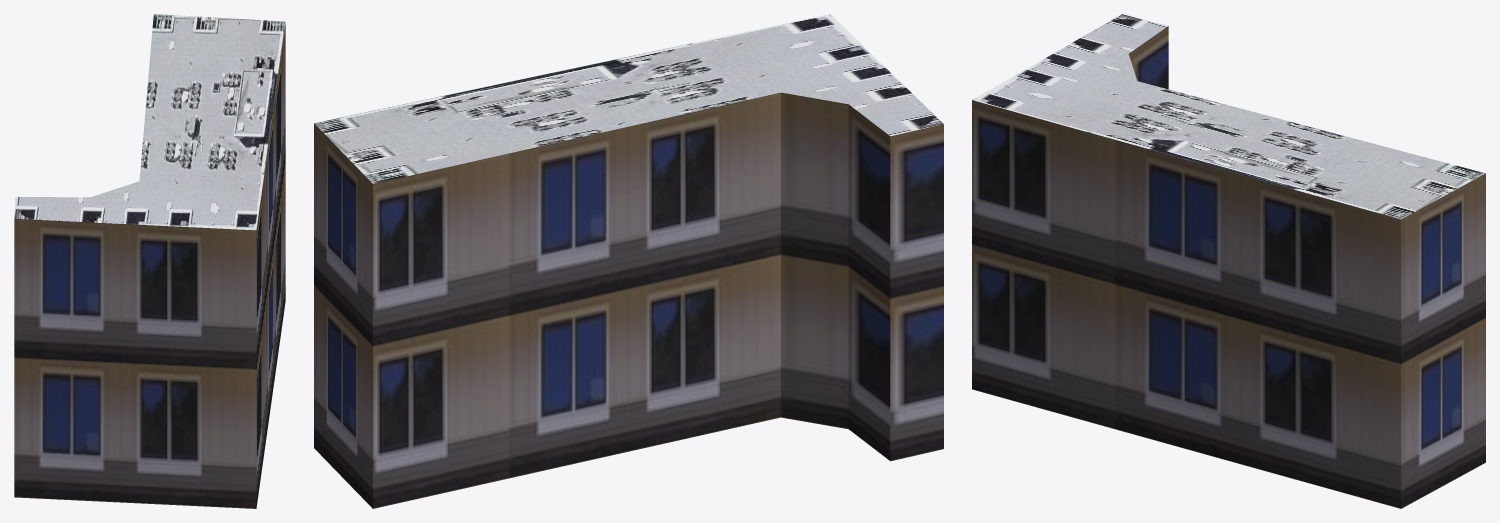
The model's file is ResTex__3724.fbx.
3 views of the same model, side by side, from view 1: azimuth 30°, elevation 25°; view 2: azimuth 150°, elevation 25°; view 3: azimuth 270°, elevation 25° (orthographic). The views are drawn at different scales.
Parts seen in each view (by area): view 1: CityEngineMaterial_5_m, CityEngineMaterial_8_m; view 2: CityEngineMaterial_5_m, CityEngineMaterial_8_m; view 3: CityEngineMaterial_5_m, CityEngineMaterial_8_m.
Boxes of the visible parts, bbox=[...] form: CityEngineMaterial_5_m: bbox=[14, 24, 285, 508]; CityEngineMaterial_8_m: bbox=[14, 14, 285, 230]; CityEngineMaterial_5_m: bbox=[314, 92, 943, 508]; CityEngineMaterial_8_m: bbox=[314, 14, 943, 183]; CityEngineMaterial_5_m: bbox=[972, 26, 1485, 508]; CityEngineMaterial_8_m: bbox=[972, 14, 1485, 219].
Bounding box in the file's own units: 9.15 × 6 × 9.66.
2 materials, 2 textured.
